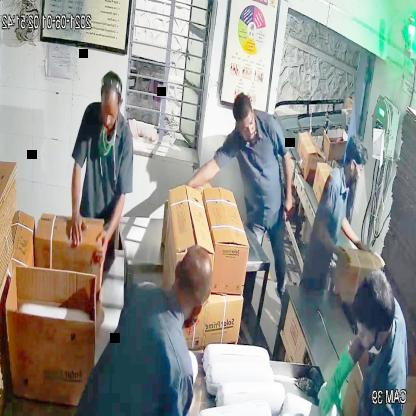no_goggles: (97, 100, 123, 124)
